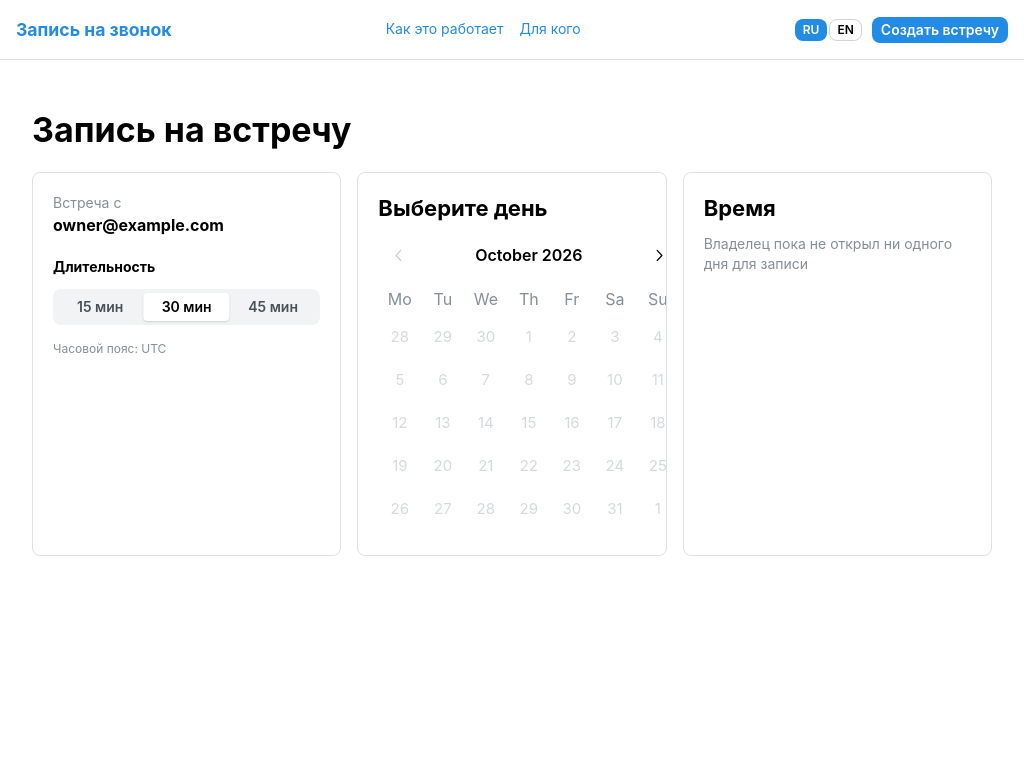
Scenario: переключатель языка на каждой странице › /book/owner@example.com: RU/EN переключают язык страницы
What coordinates should you click on to do the following:
click the button "EN"
I would click on:
 (846, 30)
Its box is [829, 18, 862, 40].
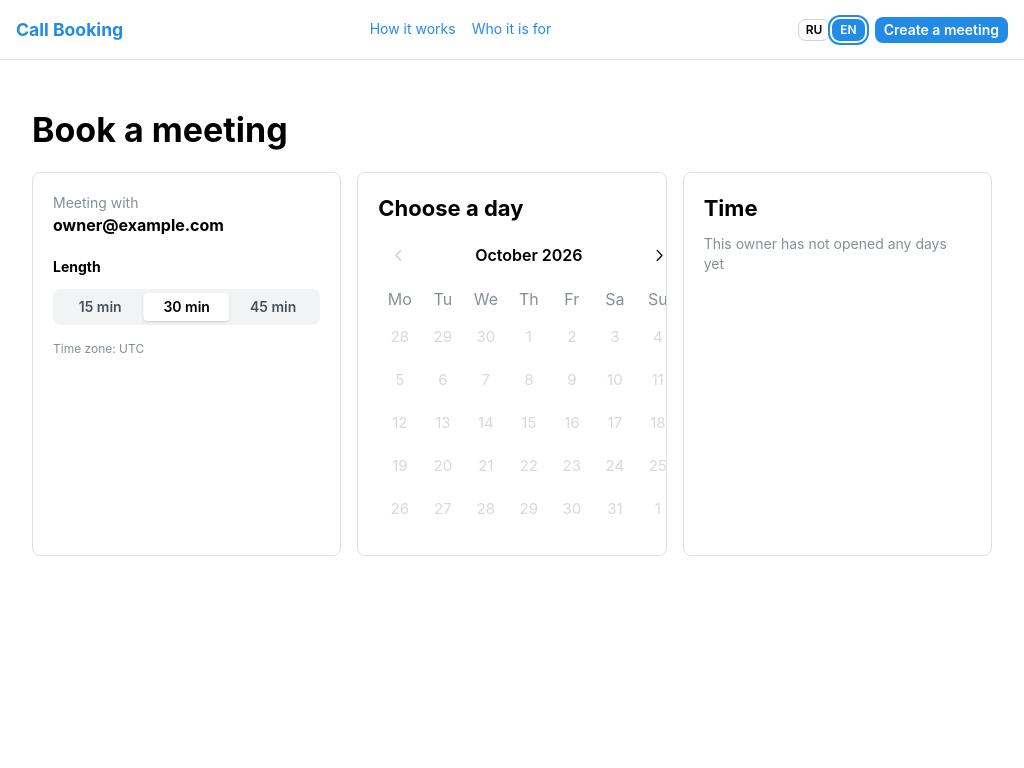
Expected: the heading "Book a meeting" is shown, [32, 109, 288, 150]
